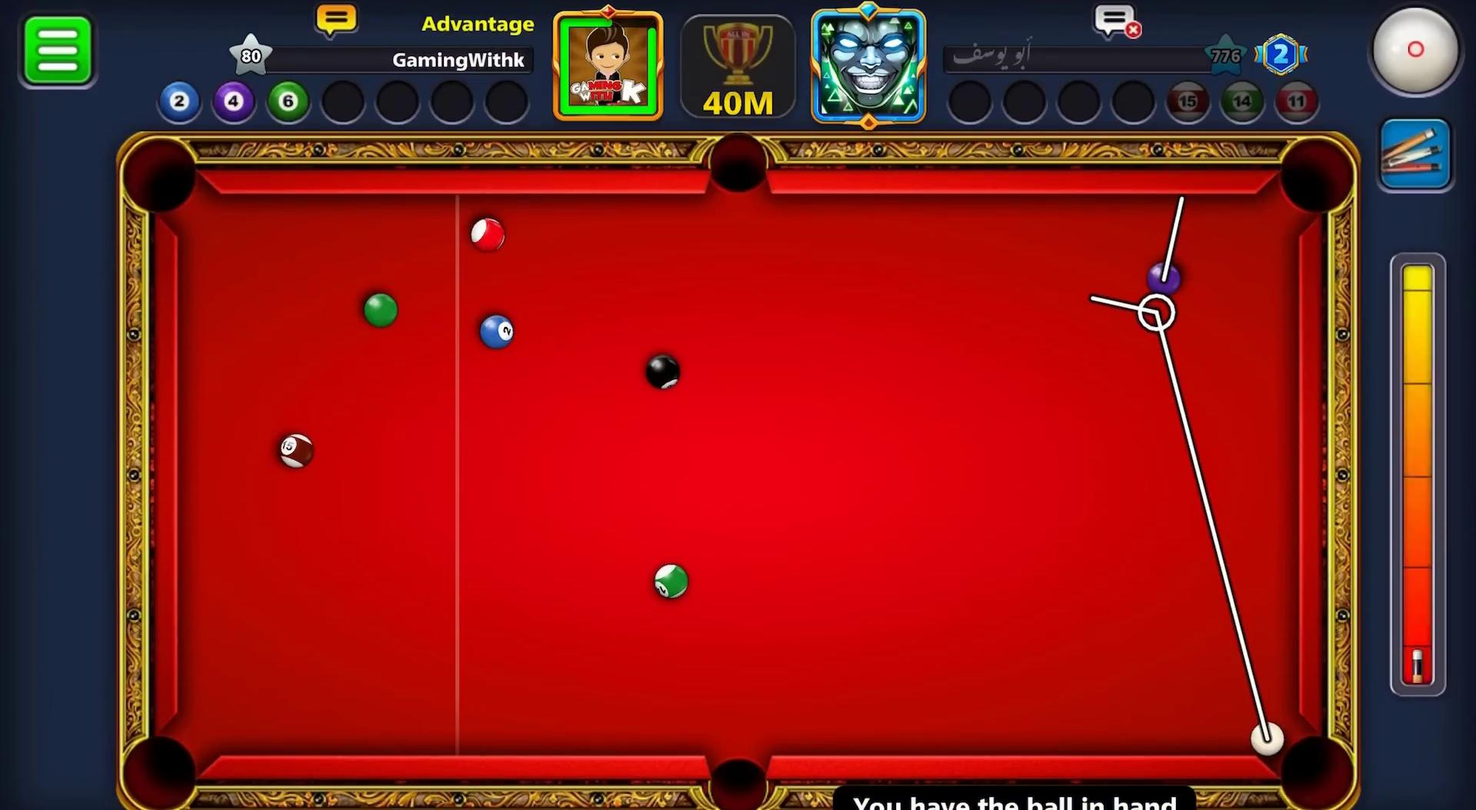Ball: (357, 275, 405, 333), (462, 208, 512, 260), (472, 304, 521, 354), (272, 427, 316, 473), (641, 351, 683, 390), (1145, 258, 1184, 299), (651, 562, 689, 601)
Force: (1393, 248, 1450, 712)
Guideline: (1085, 186, 1276, 744)
Hole: (102, 125, 222, 238), (1277, 135, 1356, 214), (1274, 734, 1356, 808), (122, 733, 198, 808), (708, 132, 768, 192), (705, 755, 770, 809)
Play_Area: (180, 193, 1294, 756)
Spin: (1365, 2, 1471, 102)
White: (1249, 721, 1285, 755)
